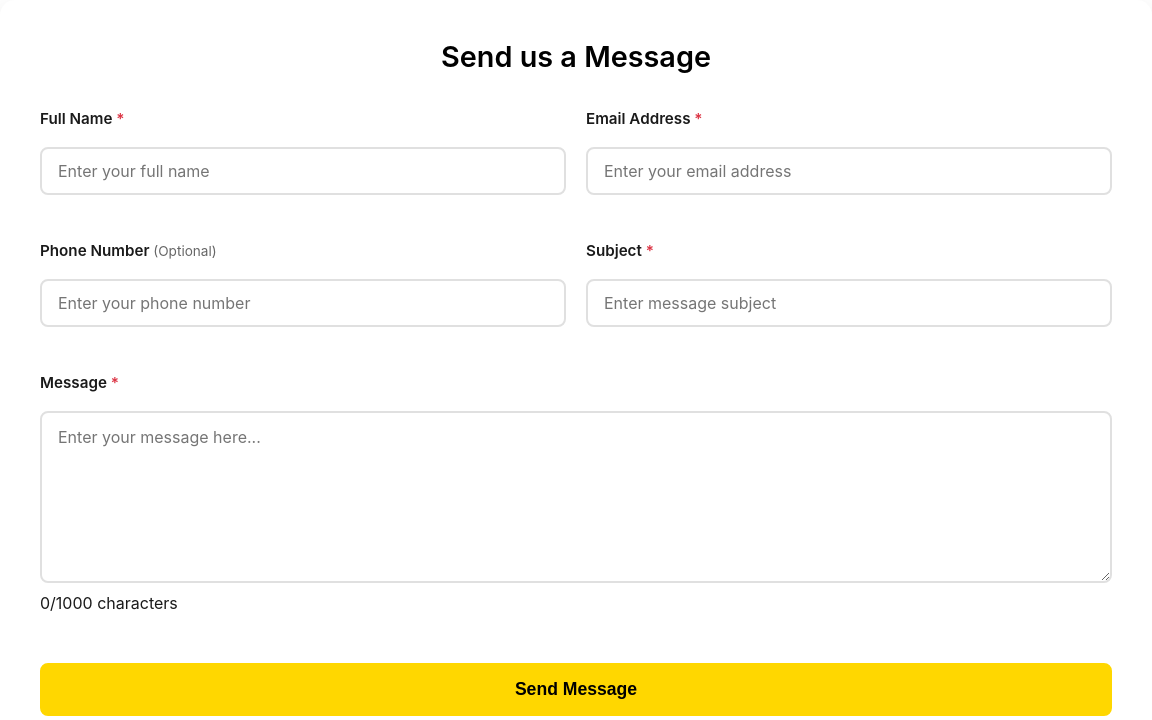
Scenario: ContactForm › shows error message when submission fails
Fill out the form
Type "John Doe" into the field labelled "Full Name *" at (303, 171), box x1=40 y1=147 x2=566 y2=195
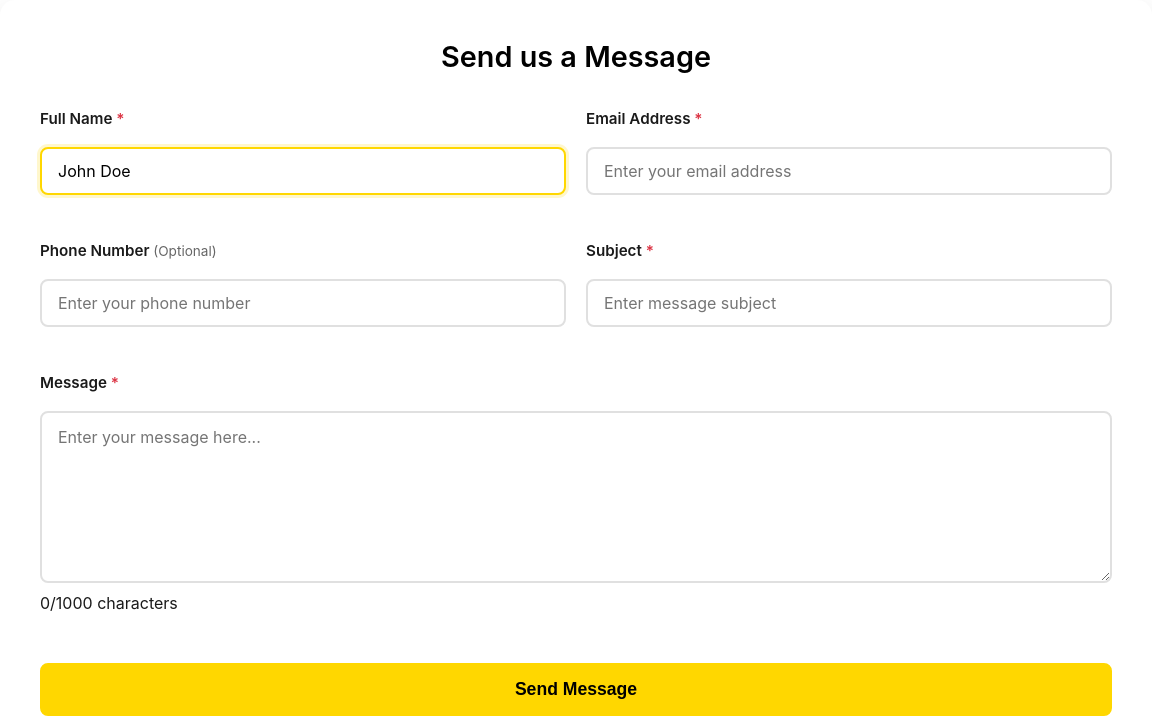
Type "john@example.com" into the field labelled "Email Address *" at (849, 171), box x1=586 y1=147 x2=1112 y2=195
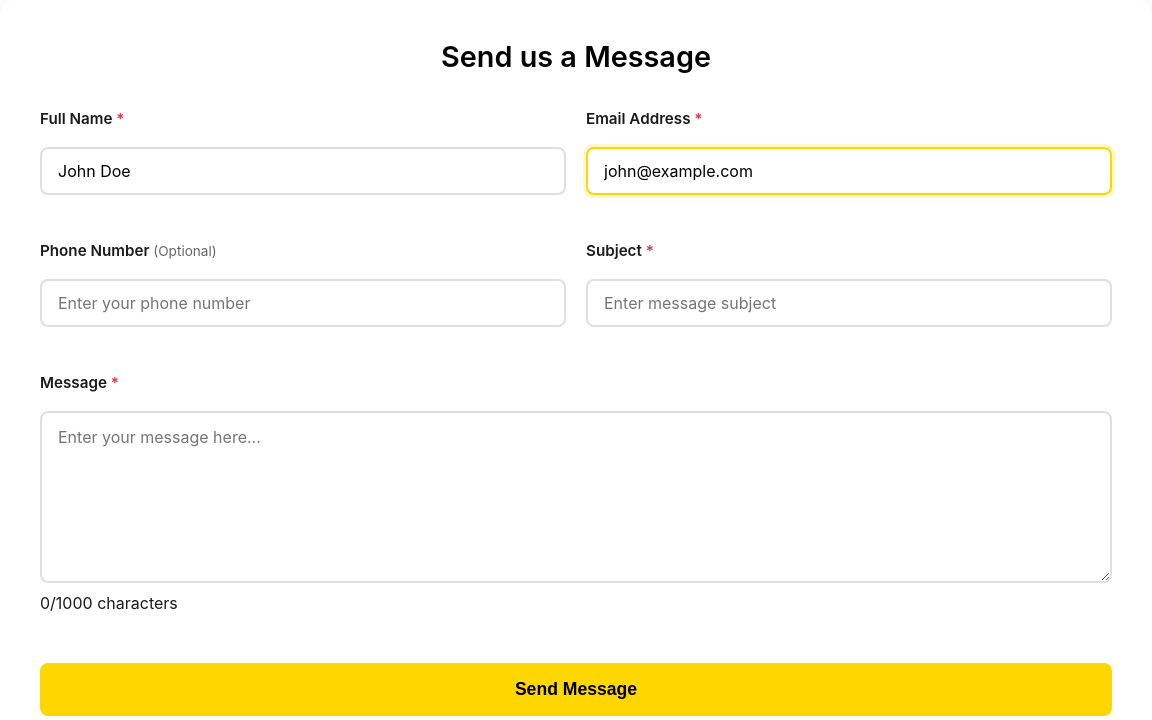
Type "Test Subject" into the field labelled "Subject *" at (849, 303), box x1=586 y1=279 x2=1112 y2=327
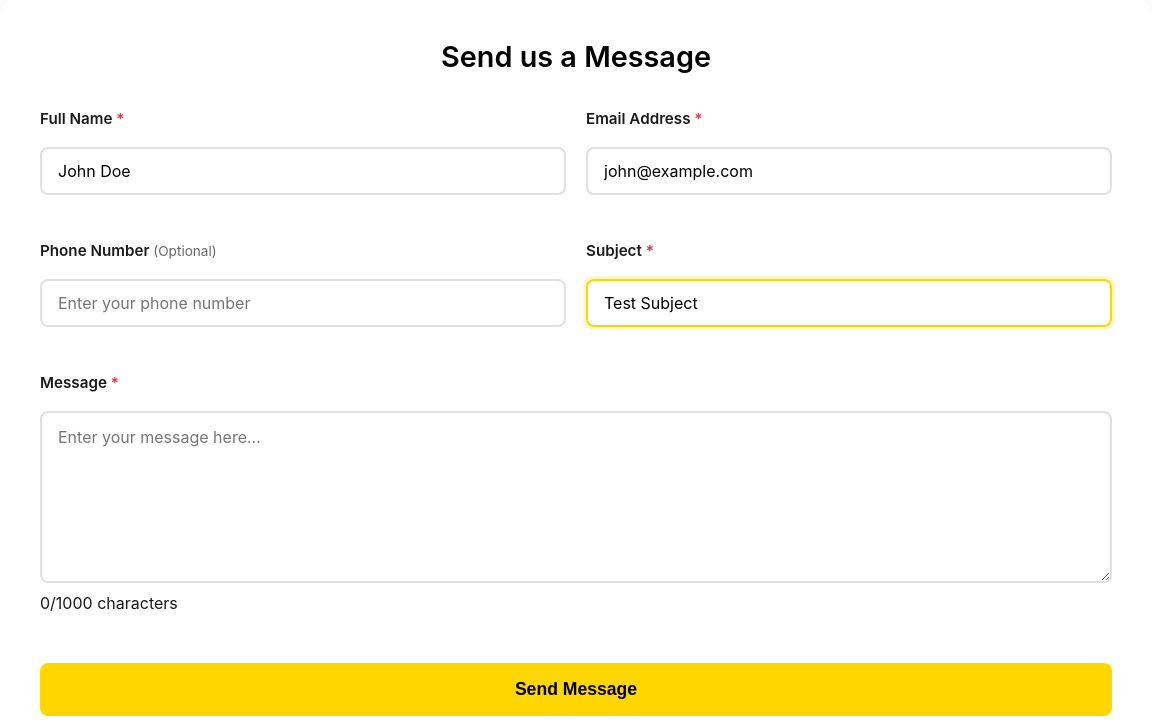
Type "This is a test message." into the text box labelled "Message *" at (576, 498), box x1=40 y1=412 x2=1112 y2=584
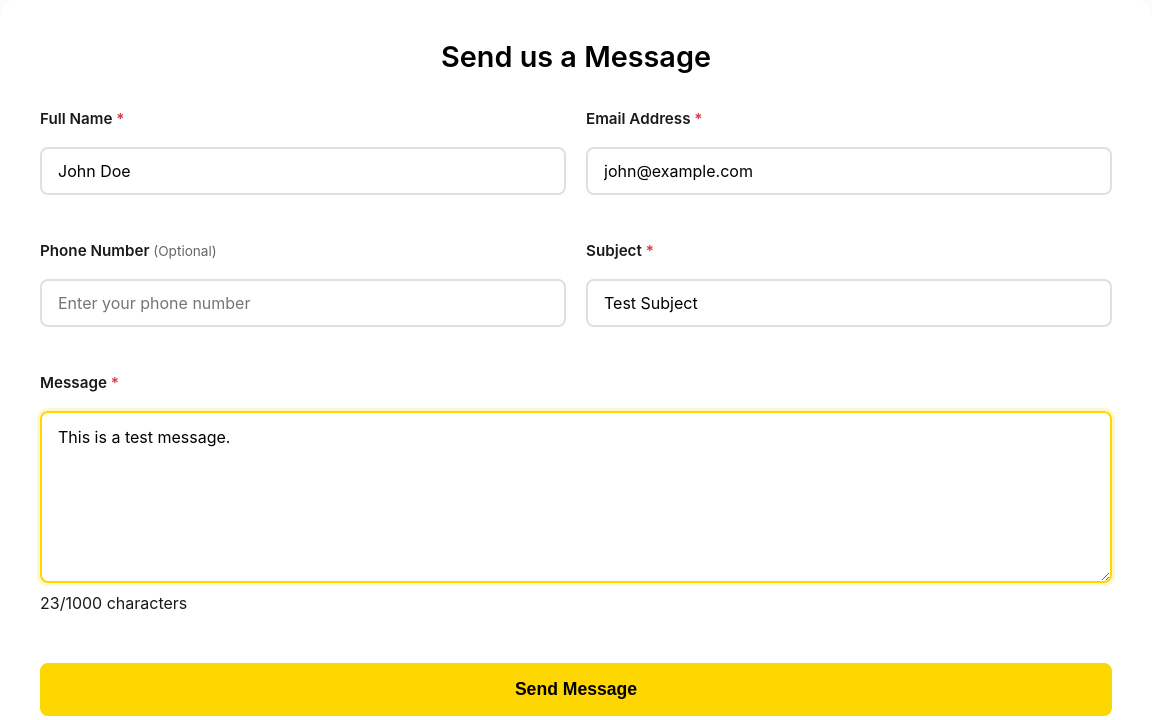
Click the button "Send Message" at (576, 690), box x1=40 y1=663 x2=1112 y2=716
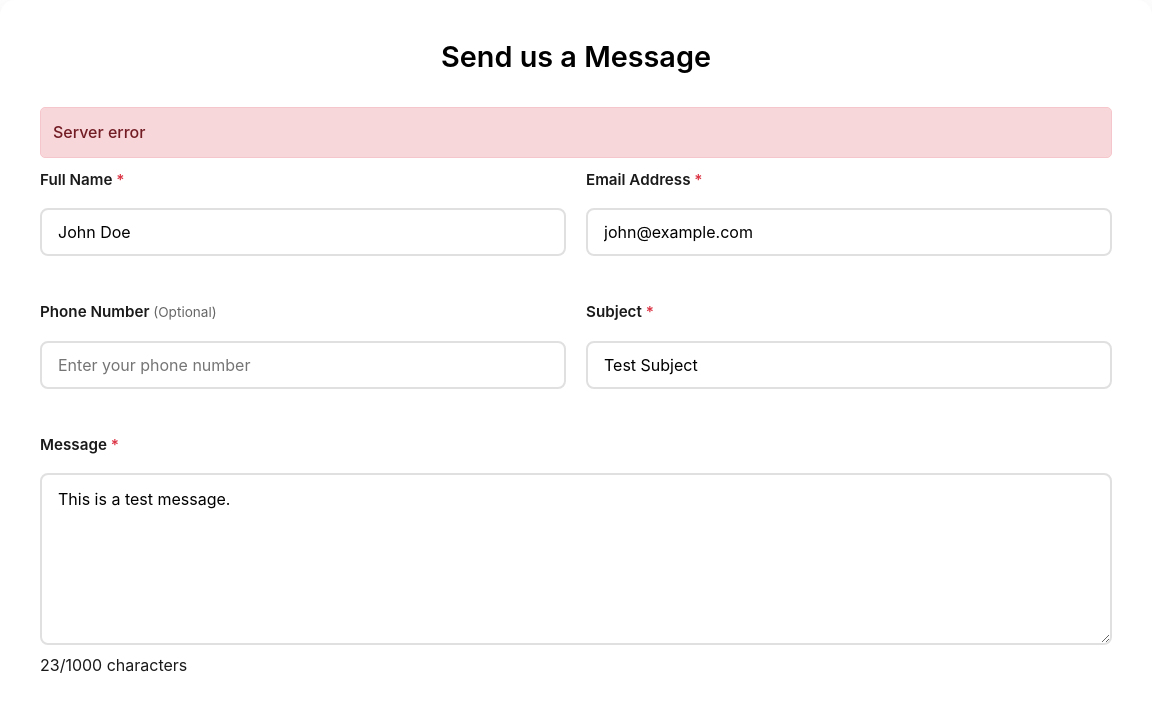
Expected: the text "Server error" is shown, x1=40 y1=106 x2=1112 y2=158
